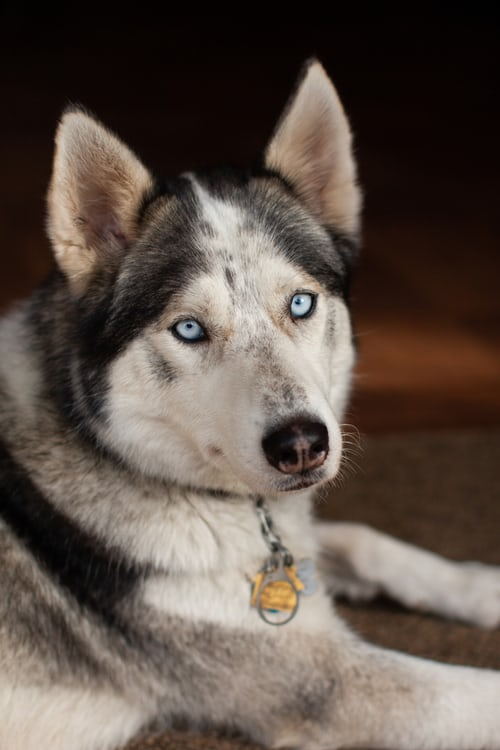husky: (28, 45, 391, 498)
